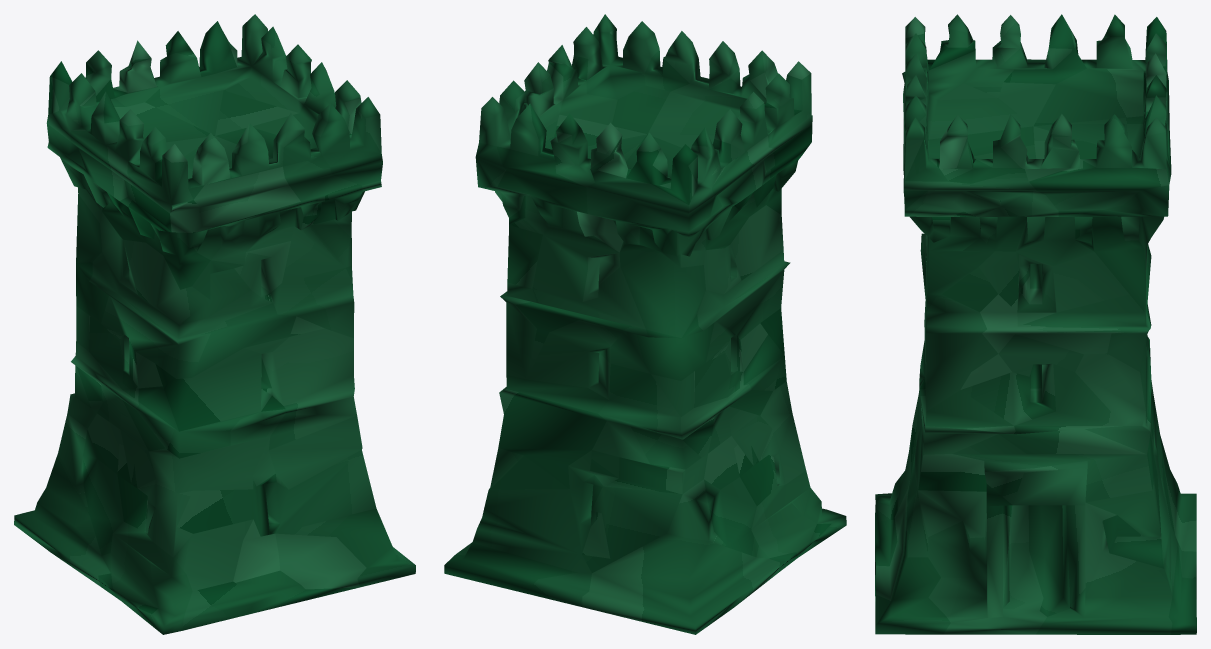
File: castle_tower_medium_diamond_green_lo.glb
The picture shows the model from 3 angles, left to right: view 1: azimuth 30°, elevation 25°; view 2: azimuth 150°, elevation 25°; view 3: azimuth 270°, elevation 25°; orthographic projection. The views are drawn at different scales.
Visible parts, largest first — view 1: tripo_node_0e04f923-03ad-4ebf-9e1d-676441b93ec8; view 2: tripo_node_0e04f923-03ad-4ebf-9e1d-676441b93ec8; view 3: tripo_node_0e04f923-03ad-4ebf-9e1d-676441b93ec8.
Part boxes in pixels (x1=…): tripo_node_0e04f923-03ad-4ebf-9e1d-676441b93ec8: x1=14, y1=14, x2=415, y2=634; tripo_node_0e04f923-03ad-4ebf-9e1d-676441b93ec8: x1=444, y1=14, x2=846, y2=634; tripo_node_0e04f923-03ad-4ebf-9e1d-676441b93ec8: x1=875, y1=14, x2=1196, y2=634.
Bounding box in the file's own units: 0.5493 × 0.9807 × 0.5668.
Materials: 1 (1 with a texture image).
